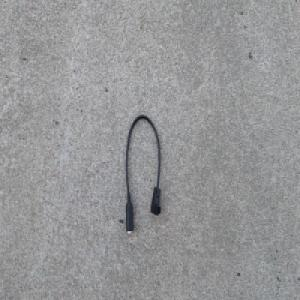Wire: (124, 113, 162, 236)
